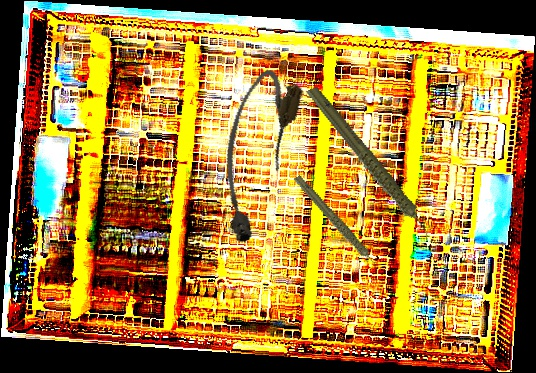Cannula: (201, 64, 307, 248)
Handpiece: (304, 69, 433, 260), (292, 163, 380, 285)
